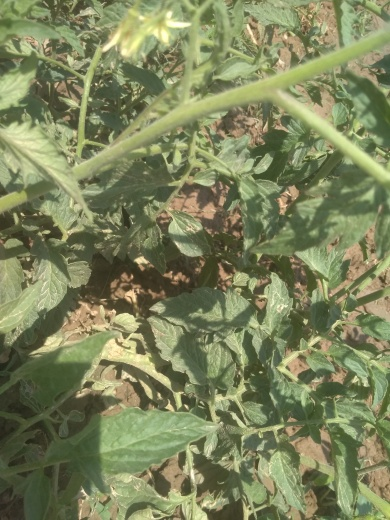tomato flower: (87, 2, 190, 70)
tomato plant: (1, 107, 370, 505)
